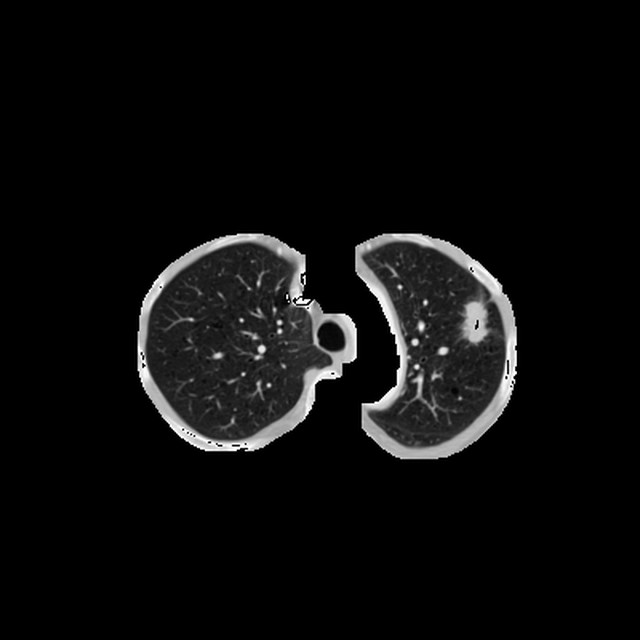PN: (458, 306, 493, 341)
